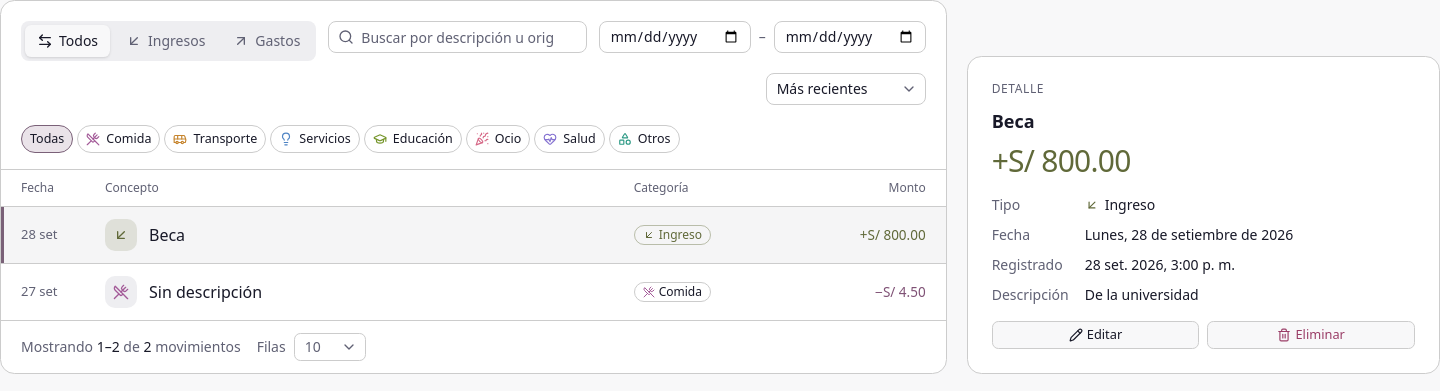
AllMovementsPage › en pantalla ancha la fila elige el detalle de al lado
Expected: the text "De la universidad" is shown, [1085,285,1199,304]
Click the button "Sin descripción" at (206, 292), box [149,280,262,304]
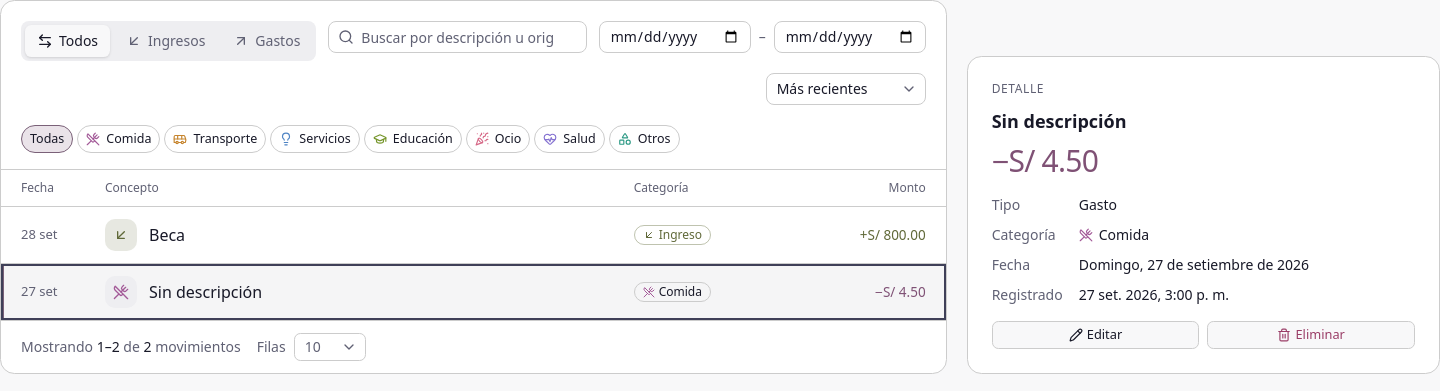
Now the text "Comida" is shown, box [1079,225,1149,244]
